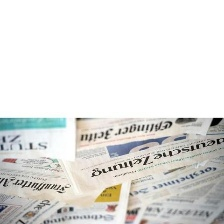news_paper: (55, 114, 223, 197), (47, 116, 219, 154), (0, 155, 109, 209), (35, 171, 131, 223), (119, 179, 224, 223), (0, 117, 82, 166), (0, 190, 67, 224)
